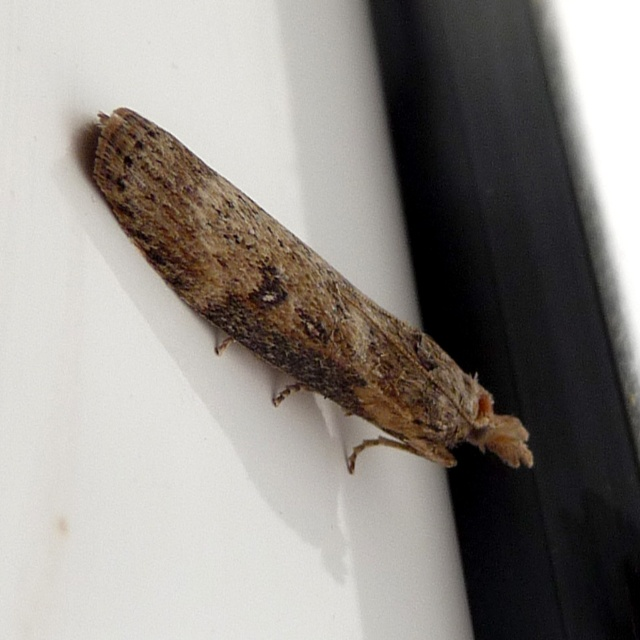Moths and butterflies: (88, 104, 539, 480)
